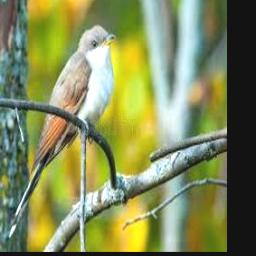Cuckoo: (7, 24, 116, 237)
